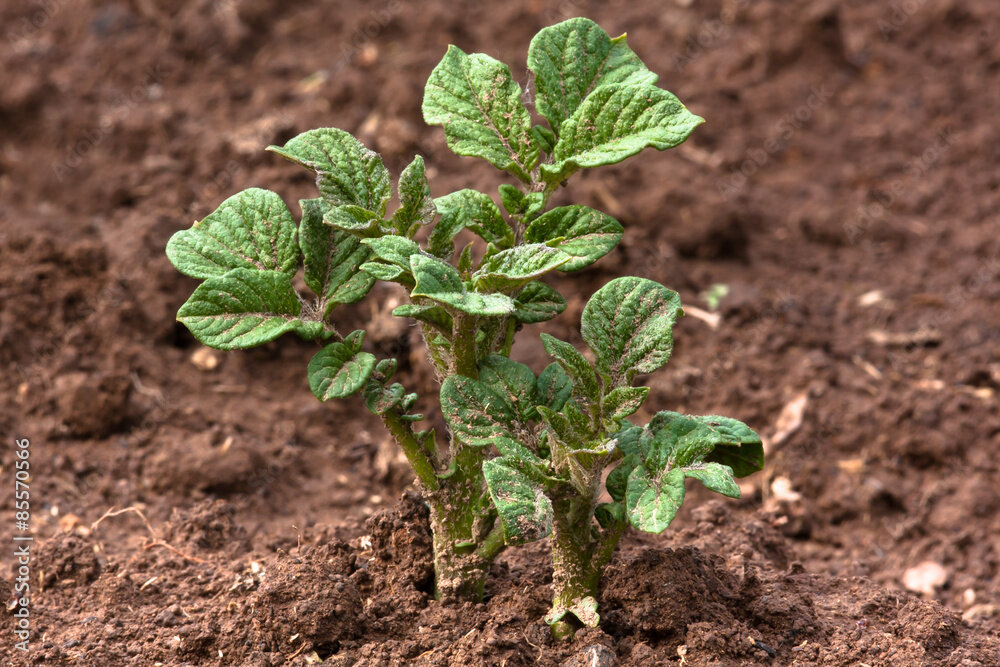potato_plant: (165, 12, 772, 627)
